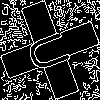U: (25, 25, 81, 76)
